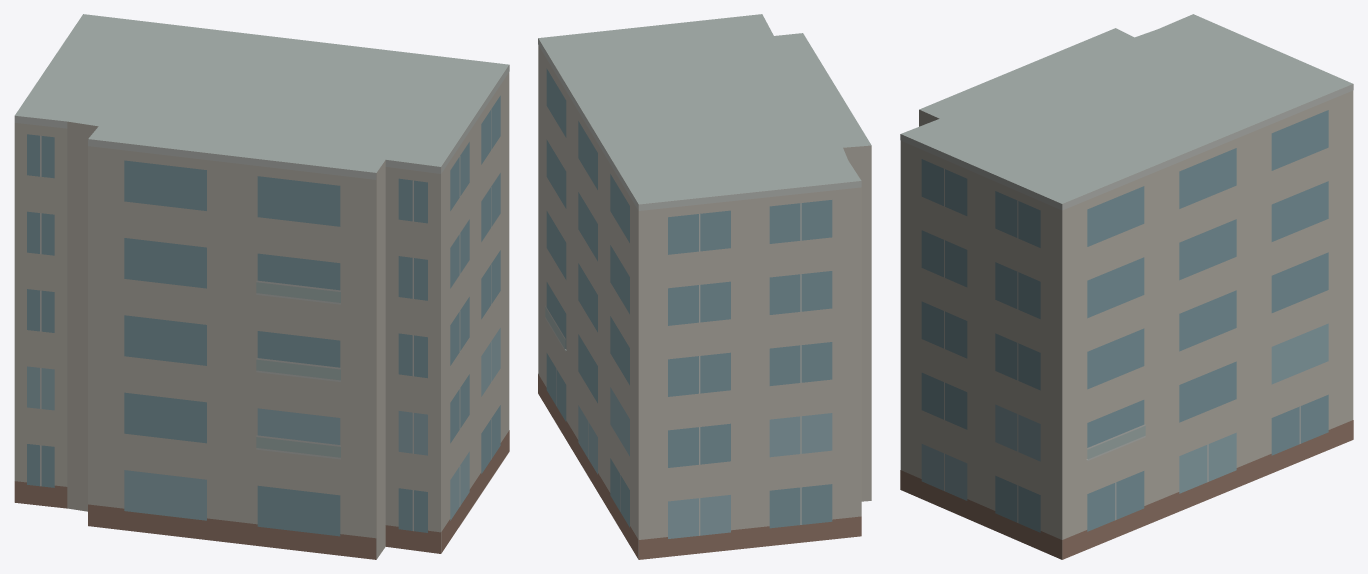
Rendered from survey-upis-32849468.glb.
3 renders of one model, left to right at view 1: azimuth 30°, elevation 25°; view 2: azimuth 150°, elevation 25°; view 3: azimuth 270°, elevation 25°, orthographic. The views are drawn at different scales.
Visible parts, largest first — view 1: survey-upis-32849468.tmp; view 2: survey-upis-32849468.tmp; view 3: survey-upis-32849468.tmp.
Boxes of the visible parts, <box> form: survey-upis-32849468.tmp: <box>14,14,509,559</box>; survey-upis-32849468.tmp: <box>538,14,871,559</box>; survey-upis-32849468.tmp: <box>900,14,1353,559</box>.
Bounding box in the file's own units: 15.24 × 13.3 × 15.35.
